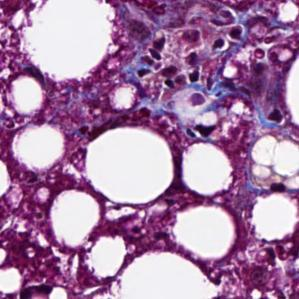inflammation: (133, 27, 204, 88), (210, 21, 246, 57), (265, 105, 286, 125)
